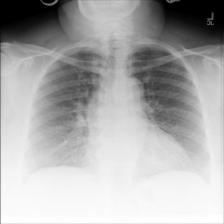normal: (22, 41, 213, 181)
